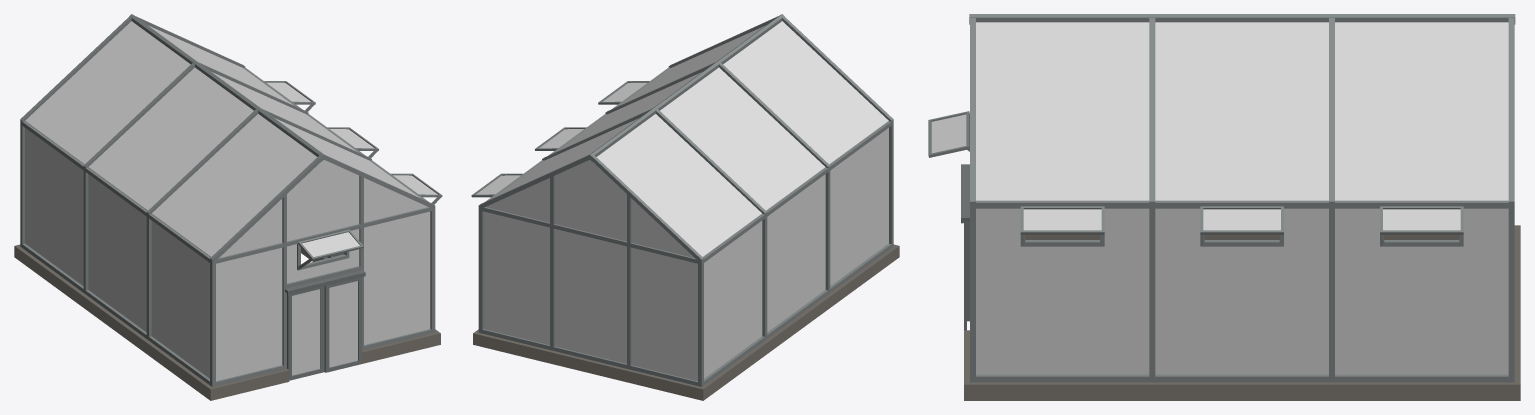
The model's file is SM_Bldg_Farm_GreenHouse_02.fbx.
3 renders of one model, left to right at view 1: azimuth 30°, elevation 25°; view 2: azimuth 150°, elevation 25°; view 3: azimuth 270°, elevation 25°, orthographic. The views are drawn at different scales.
Parts seen in each view (by area): view 1: SM_Bldg_Farm_GreenHouse_02_Plastic, SM_Bldg_Farm_GreenHouse_02; view 2: SM_Bldg_Farm_GreenHouse_02_Plastic, SM_Bldg_Farm_GreenHouse_02; view 3: SM_Bldg_Farm_GreenHouse_02_Plastic, SM_Bldg_Farm_GreenHouse_02.
Boxes of the visible parts, x1,y1,x2,y2 form: SM_Bldg_Farm_GreenHouse_02_Plastic: (25,21,437,381); SM_Bldg_Farm_GreenHouse_02: (14,14,442,400); SM_Bldg_Farm_GreenHouse_02_Plastic: (476,21,888,381); SM_Bldg_Farm_GreenHouse_02: (471,14,899,400); SM_Bldg_Farm_GreenHouse_02_Plastic: (931,22,1508,374); SM_Bldg_Farm_GreenHouse_02: (928,14,1520,400).
Size of the model in its own units: 6.89 by 5.66 by 9.89.
